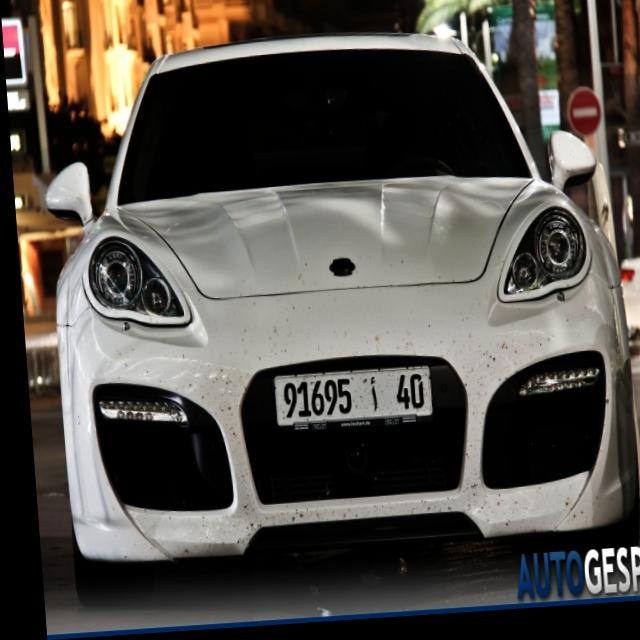License-Plate: (267, 371, 427, 432)
